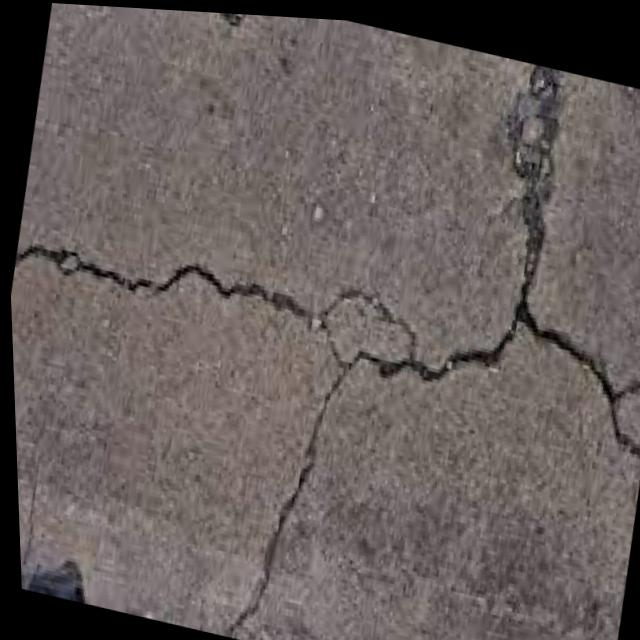Crack: (59, 5, 640, 625)
